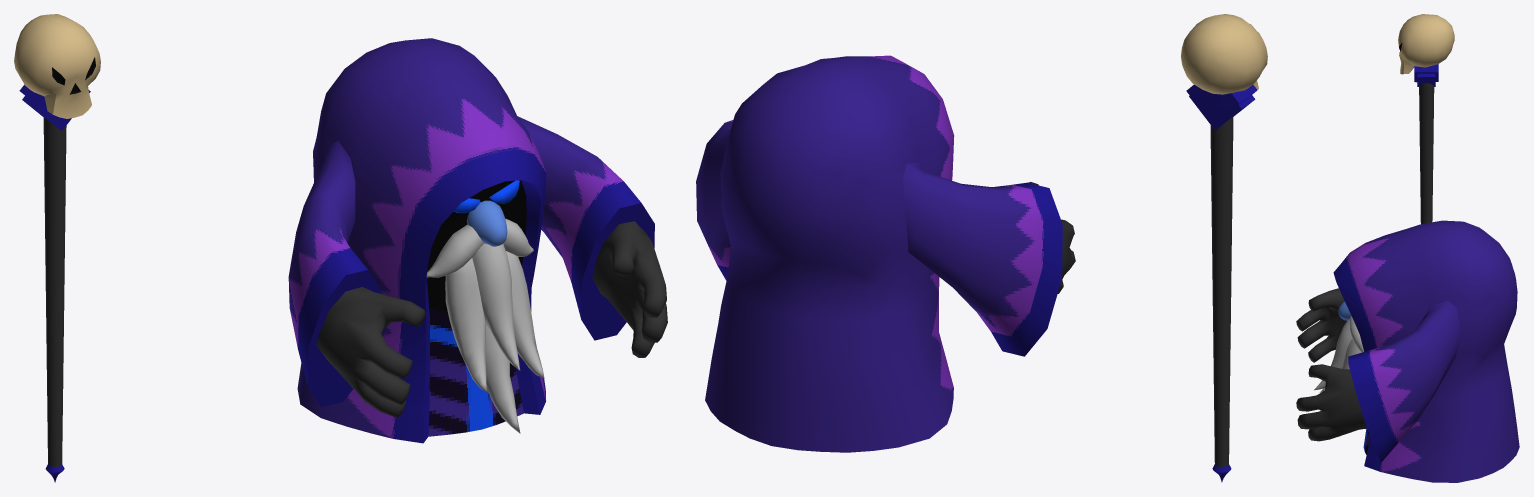
The model's file is boss_evil_mage.glb.
The picture shows the model from 3 angles, left to right: view 1: azimuth 30°, elevation 25°; view 2: azimuth 150°, elevation 25°; view 3: azimuth 270°, elevation 25°; orthographic projection. The views are drawn at different scales.
Visible parts, largest first — view 1: boss_evil_mage; view 2: boss_evil_mage; view 3: boss_evil_mage.
Part boxes in pixels (box(x1,y1,x2,y2)): boss_evil_mage: box(14, 14, 667, 482); boss_evil_mage: box(696, 14, 1267, 482); boss_evil_mage: box(1296, 14, 1519, 482).
Size of the model in its own units: 3.29 by 2.5 by 1.64.
1 material, 1 textured.
